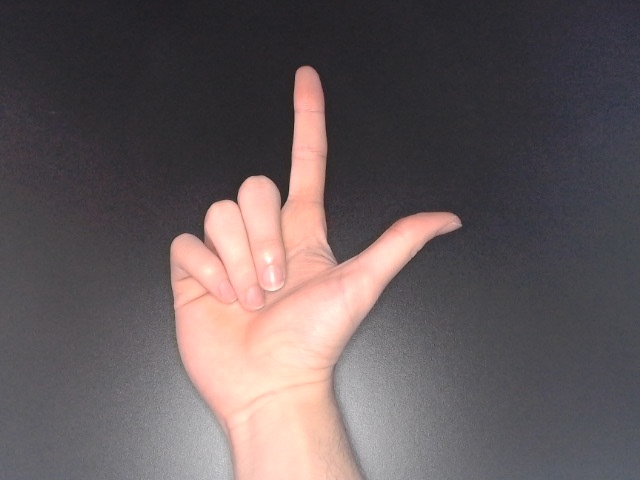l: (164, 62, 464, 427)
